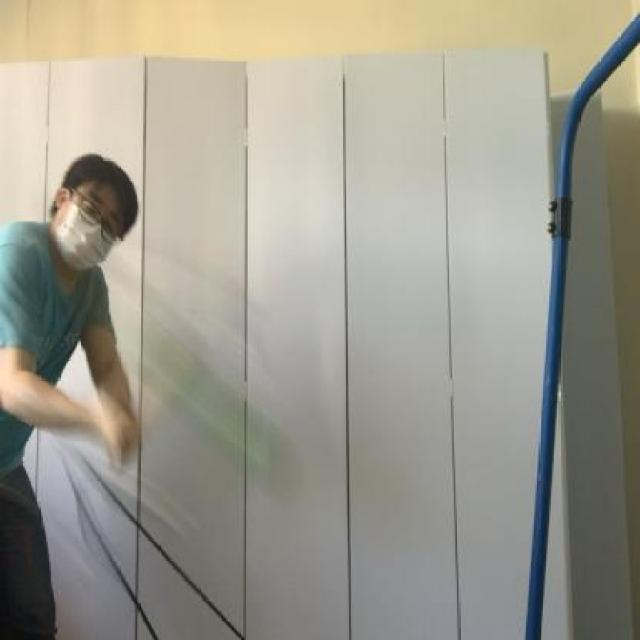baseball: (113, 306, 304, 500)
